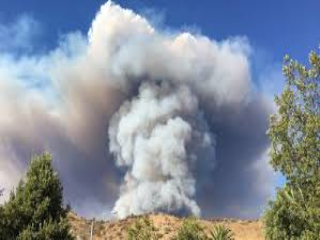smoke: (69, 15, 252, 215)
